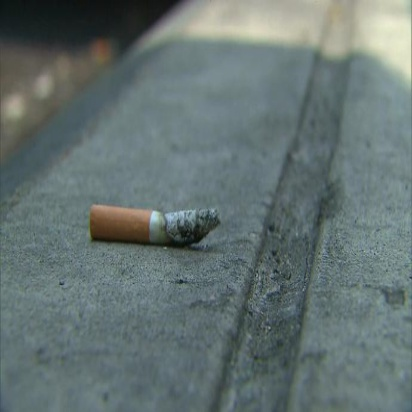cigarette: (85, 197, 231, 251)
